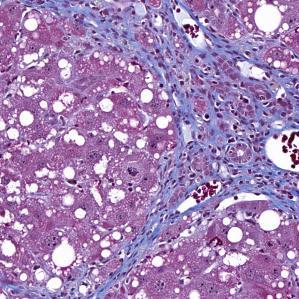fibrosis: (173, 54, 299, 181), (106, 4, 215, 76), (146, 191, 206, 234)
